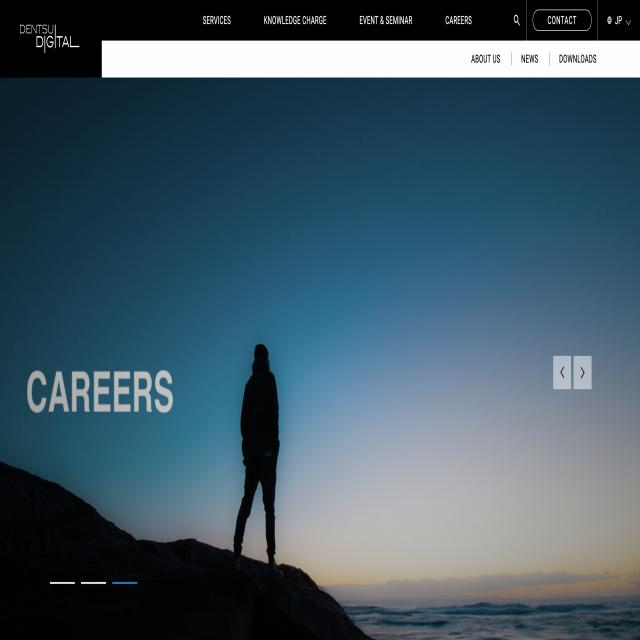Logo: (9, 10, 95, 79)
Navigation: (199, 0, 640, 41)
